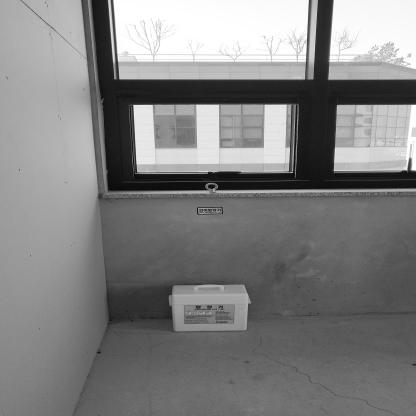DDL: (170, 284, 249, 332)
